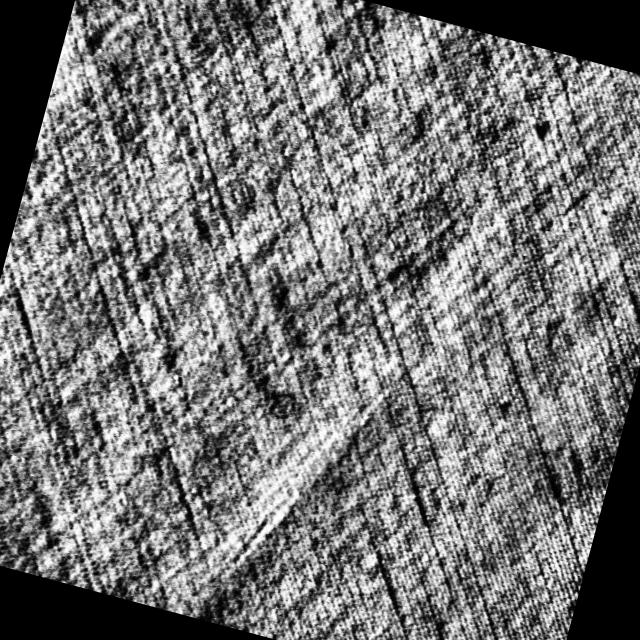gray stitch: (220, 369, 379, 601)
